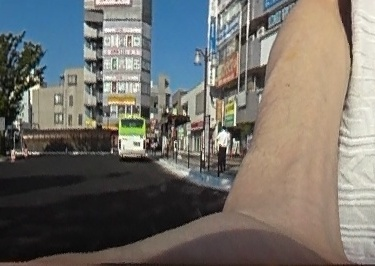person: (215, 124, 230, 168)
